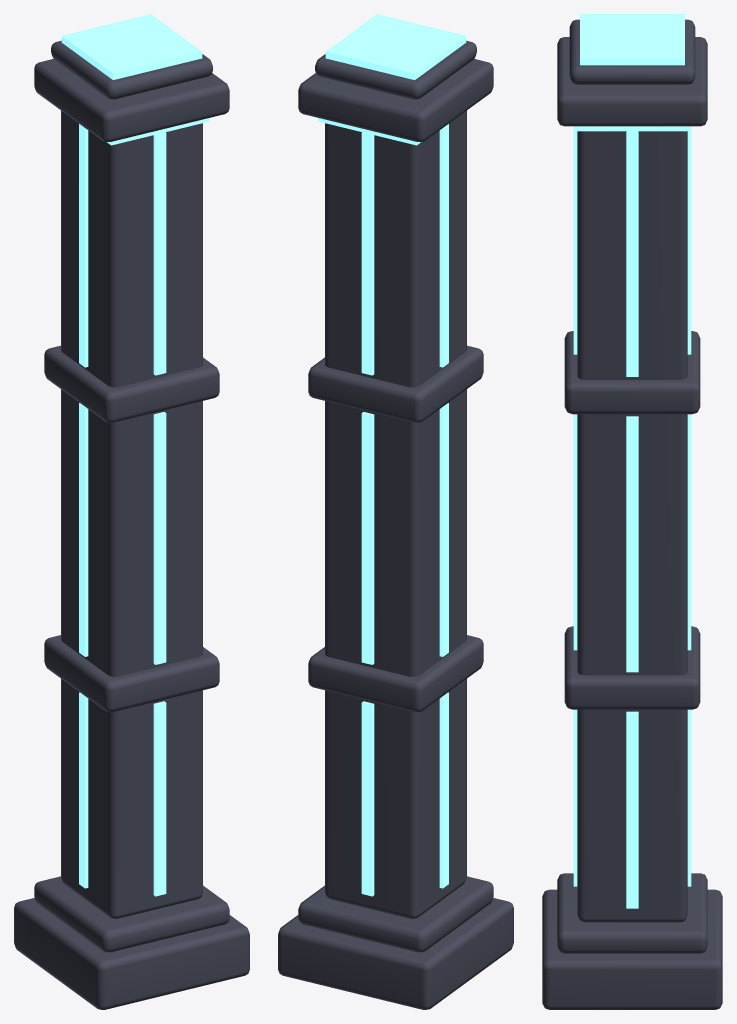
File: pillar.glb
3 views of the same model, side by side, from view 1: azimuth 30°, elevation 25°; view 2: azimuth 150°, elevation 25°; view 3: azimuth 270°, elevation 25° (orthographic). The views are drawn at different scales.
Parts seen in each view (by area): view 1: body, trim; view 2: body, trim; view 3: body, trim.
Part boxes in pixels (box(x1,y1,x2,y2)): body: box(14, 40, 249, 1009); trim: box(61, 14, 209, 896); body: box(278, 40, 513, 1009); trim: box(318, 14, 466, 896); body: box(542, 19, 722, 1009); trim: box(573, 14, 691, 908).
Size of the model in its own units: 0.72 by 4.13 by 0.72.
